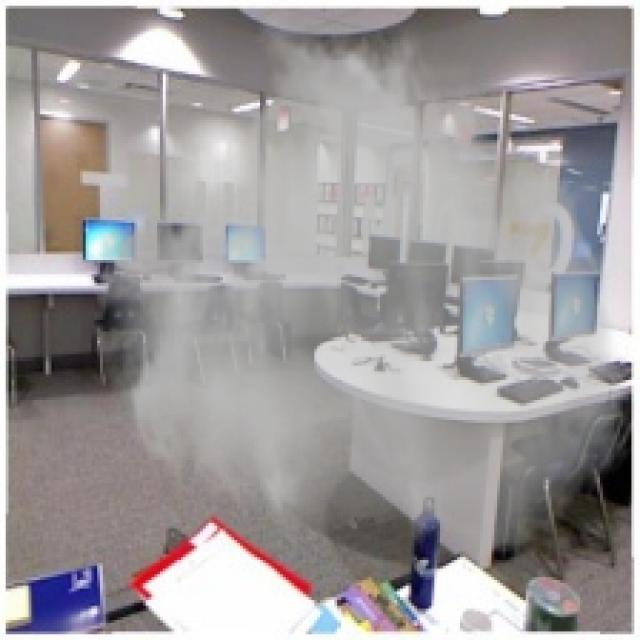smoke: (89, 11, 637, 566)
